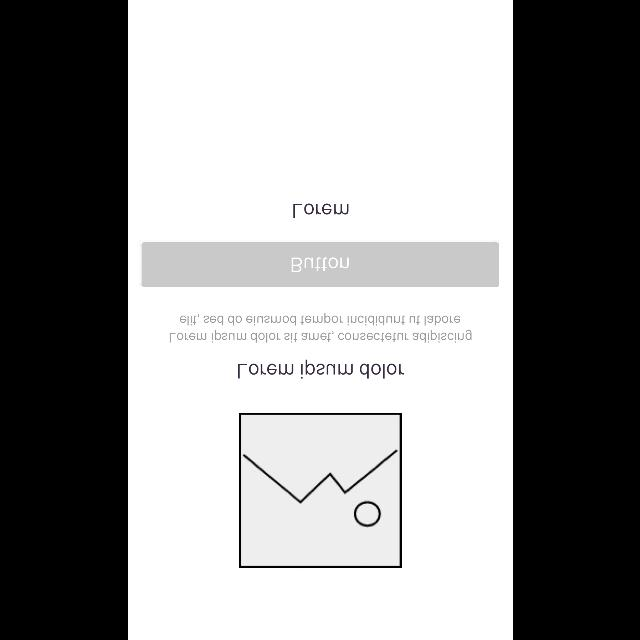image: (238, 412, 402, 568)
text: (169, 313, 471, 343), (238, 359, 404, 378), (292, 204, 348, 218)
textbutton: (141, 242, 499, 288)
